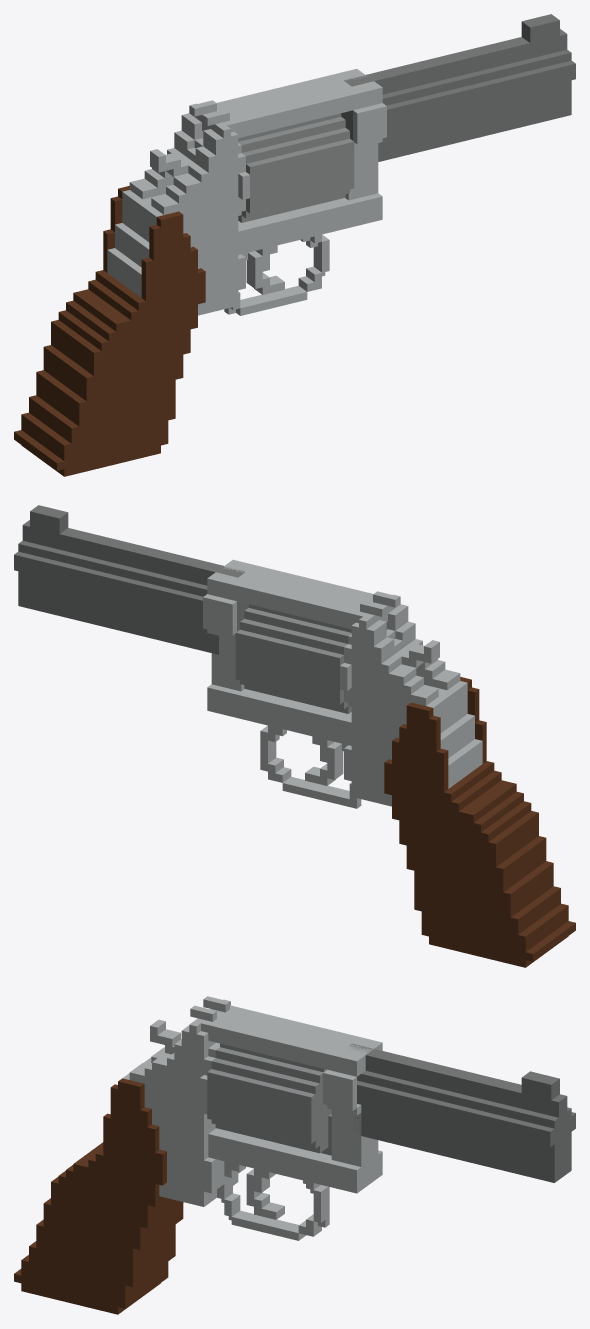
Rendered from revolver.glb.
The picture shows the model from 3 angles, top to bottom: view 1: azimuth 30°, elevation 25°; view 2: azimuth 150°, elevation 25°; view 3: azimuth 330°, elevation 25°; orthographic projection.
Parts seen in each view (by area): view 1: frame:revolver-frame, grip:revolver-grip, barrel:revolver-barrel, cylinder:revolver-cylinder, trigger:revolver-trigger, hammer:revolver-hammer; view 2: frame:revolver-frame, grip:revolver-grip, barrel:revolver-barrel, cylinder:revolver-cylinder, trigger:revolver-trigger, hammer:revolver-hammer; view 3: frame:revolver-frame, grip:revolver-grip, barrel:revolver-barrel, cylinder:revolver-cylinder, trigger:revolver-trigger, hammer:revolver-hammer.
Part boxes in pixels (<box>): frame:revolver-frame: <box>107,68,386,315</box>; grip:revolver-grip: <box>14,186,205,476</box>; barrel:revolver-barrel: <box>341,14,575,161</box>; cylinder:revolver-cylinder: <box>238,113,354,222</box>; trigger:revolver-trigger: <box>246,245,284,294</box>; hammer:revolver-hammer: <box>150,138,203,176</box>; frame:revolver-frame: <box>203,559,482,808</box>; grip:revolver-grip: <box>384,677,575,967</box>; barrel:revolver-barrel: <box>14,505,248,654</box>; cylinder:revolver-cylinder: <box>235,604,351,713</box>; trigger:revolver-trigger: <box>305,736,343,785</box>; hammer:revolver-hammer: <box>386,629,439,667</box>; frame:revolver-frame: <box>123,996,382,1240</box>; grip:revolver-grip: <box>14,1078,183,1314</box>; barrel:revolver-barrel: <box>349,1043,575,1182</box>; cylinder:revolver-cylinder: <box>207,1043,331,1153</box>; trigger:revolver-trigger: <box>246,1168,284,1219</box>; hammer:revolver-hammer: <box>150,1019,180,1054</box>.
Bounding box in the file's own units: 0.284 × 0.164 × 0.04.
